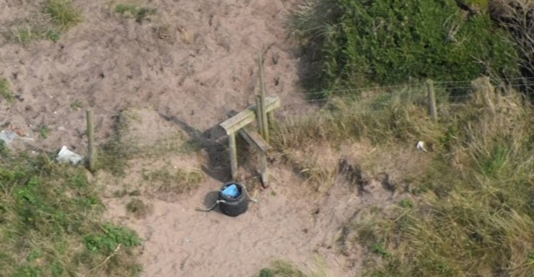white_in_green: (196, 165, 270, 233), (44, 128, 94, 180), (399, 124, 444, 165)
